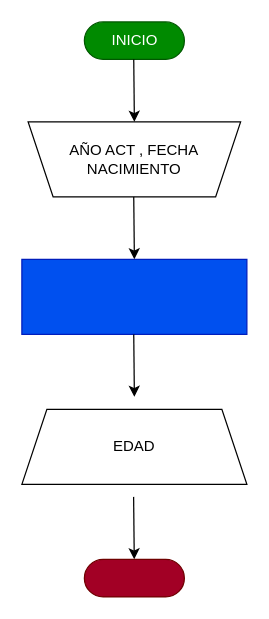
Some shapes in this 269 by 619 pixel diagram are drawn without their labels. The centre of each missing label's shape, as x and y in pixels:
EDAD = AÑO ACT - FECHA NACIMIENTO: (134,296)
FIN: (133,577)
